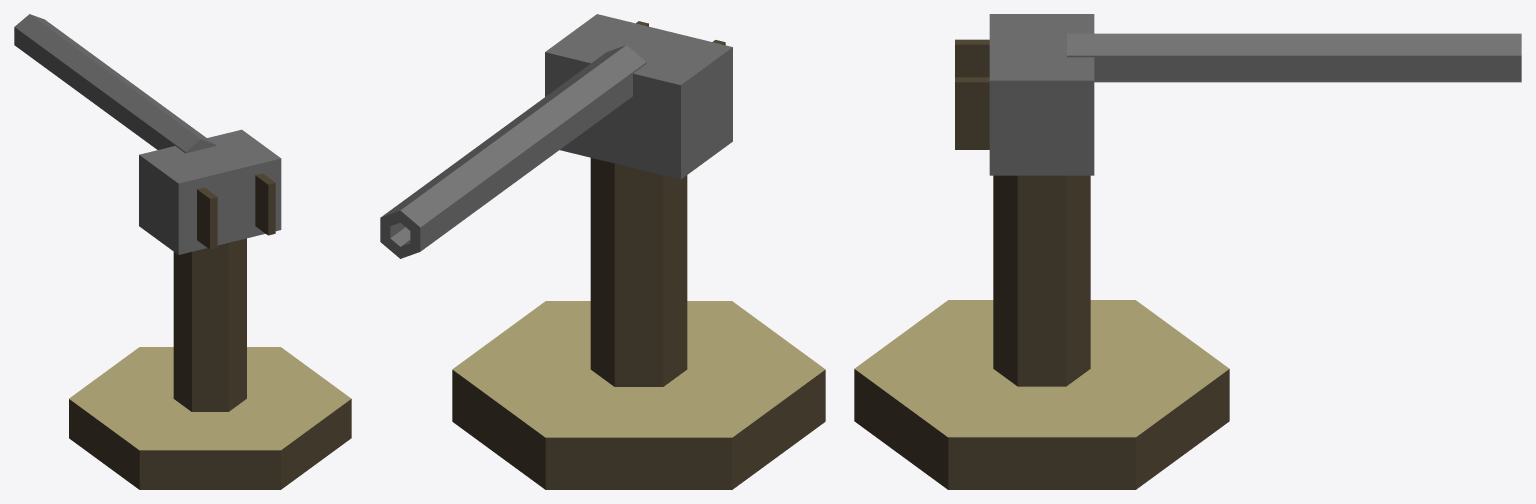
The model's file is Raft_Harpoon_Gun.fbx.
3 views of the same model, side by side, from view 1: azimuth 30°, elevation 25°; view 2: azimuth 150°, elevation 25°; view 3: azimuth 270°, elevation 25° (orthographic). The views are drawn at different scales.
Visible parts, largest first — view 1: Harpoon_Gun; view 2: Harpoon_Gun; view 3: Harpoon_Gun.
Boxes of the visible parts, <box> form: Harpoon_Gun: <box>14,14,351,489</box>; Harpoon_Gun: <box>380,14,825,489</box>; Harpoon_Gun: <box>854,14,1521,489</box>.
Size of the model in its own units: 173 by 228 by 356.
